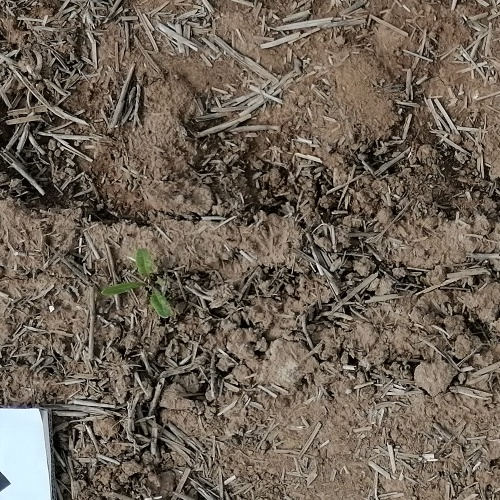beet: (101, 247, 173, 319)
